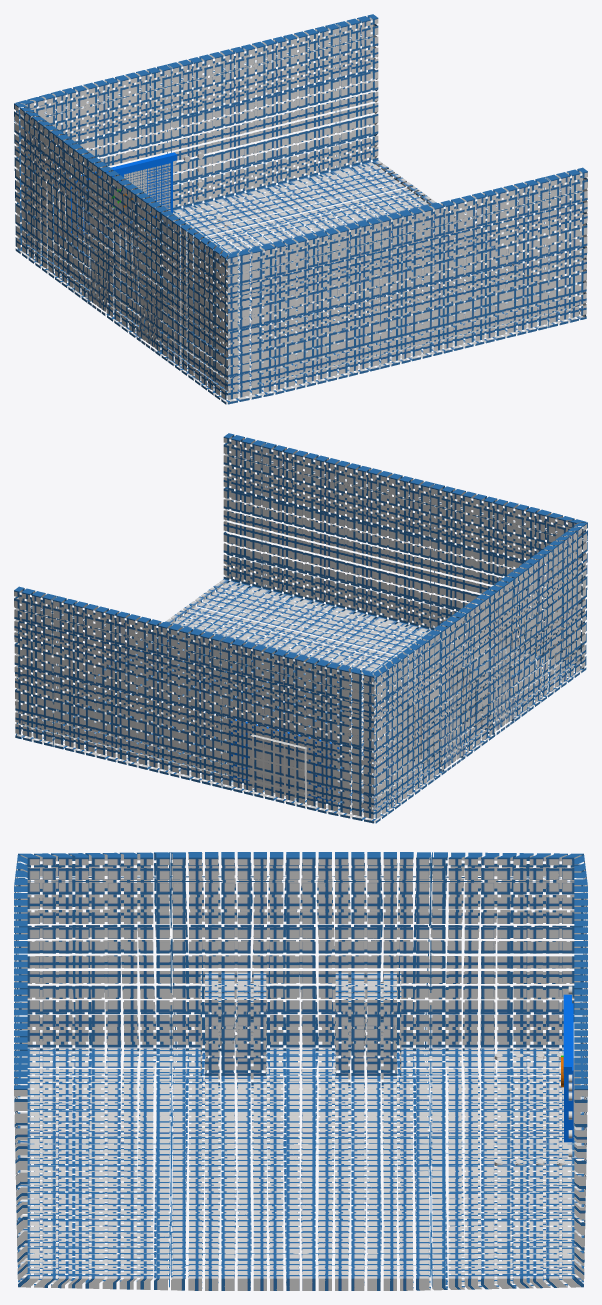
The model's file is Loca3.fbx.
3 renders of one model, top to bottom at view 1: azimuth 30°, elevation 25°; view 2: azimuth 150°, elevation 25°; view 3: azimuth 270°, elevation 25°, orthographic. The views are drawn at different scales.
Parts seen in each view (by area): view 1: Plane, Cube.001, Cube.005; view 2: Plane, Cube.002; view 3: Plane, Cube.005, Cylinder.003, Cube.001.
Boxes of the visible parts, left/top/right/bottom form: Plane: left=14, top=14, right=587, bottom=404; Cube.001: left=121, top=161, right=172, bottom=223; Cube.005: left=63, top=152, right=177, bottom=185; Plane: left=14, top=433, right=587, bottom=823; Cube.002: left=250, top=734, right=306, bottom=799; Plane: left=14, top=852, right=587, bottom=1290; Cube.005: left=563, top=994, right=571, bottom=1074; Cylinder.003: left=494, top=986, right=572, bottom=1166; Cube.001: left=564, top=1037, right=573, bottom=1142.
Size of the model in its own units: 2676 by 1065 by 2742.
